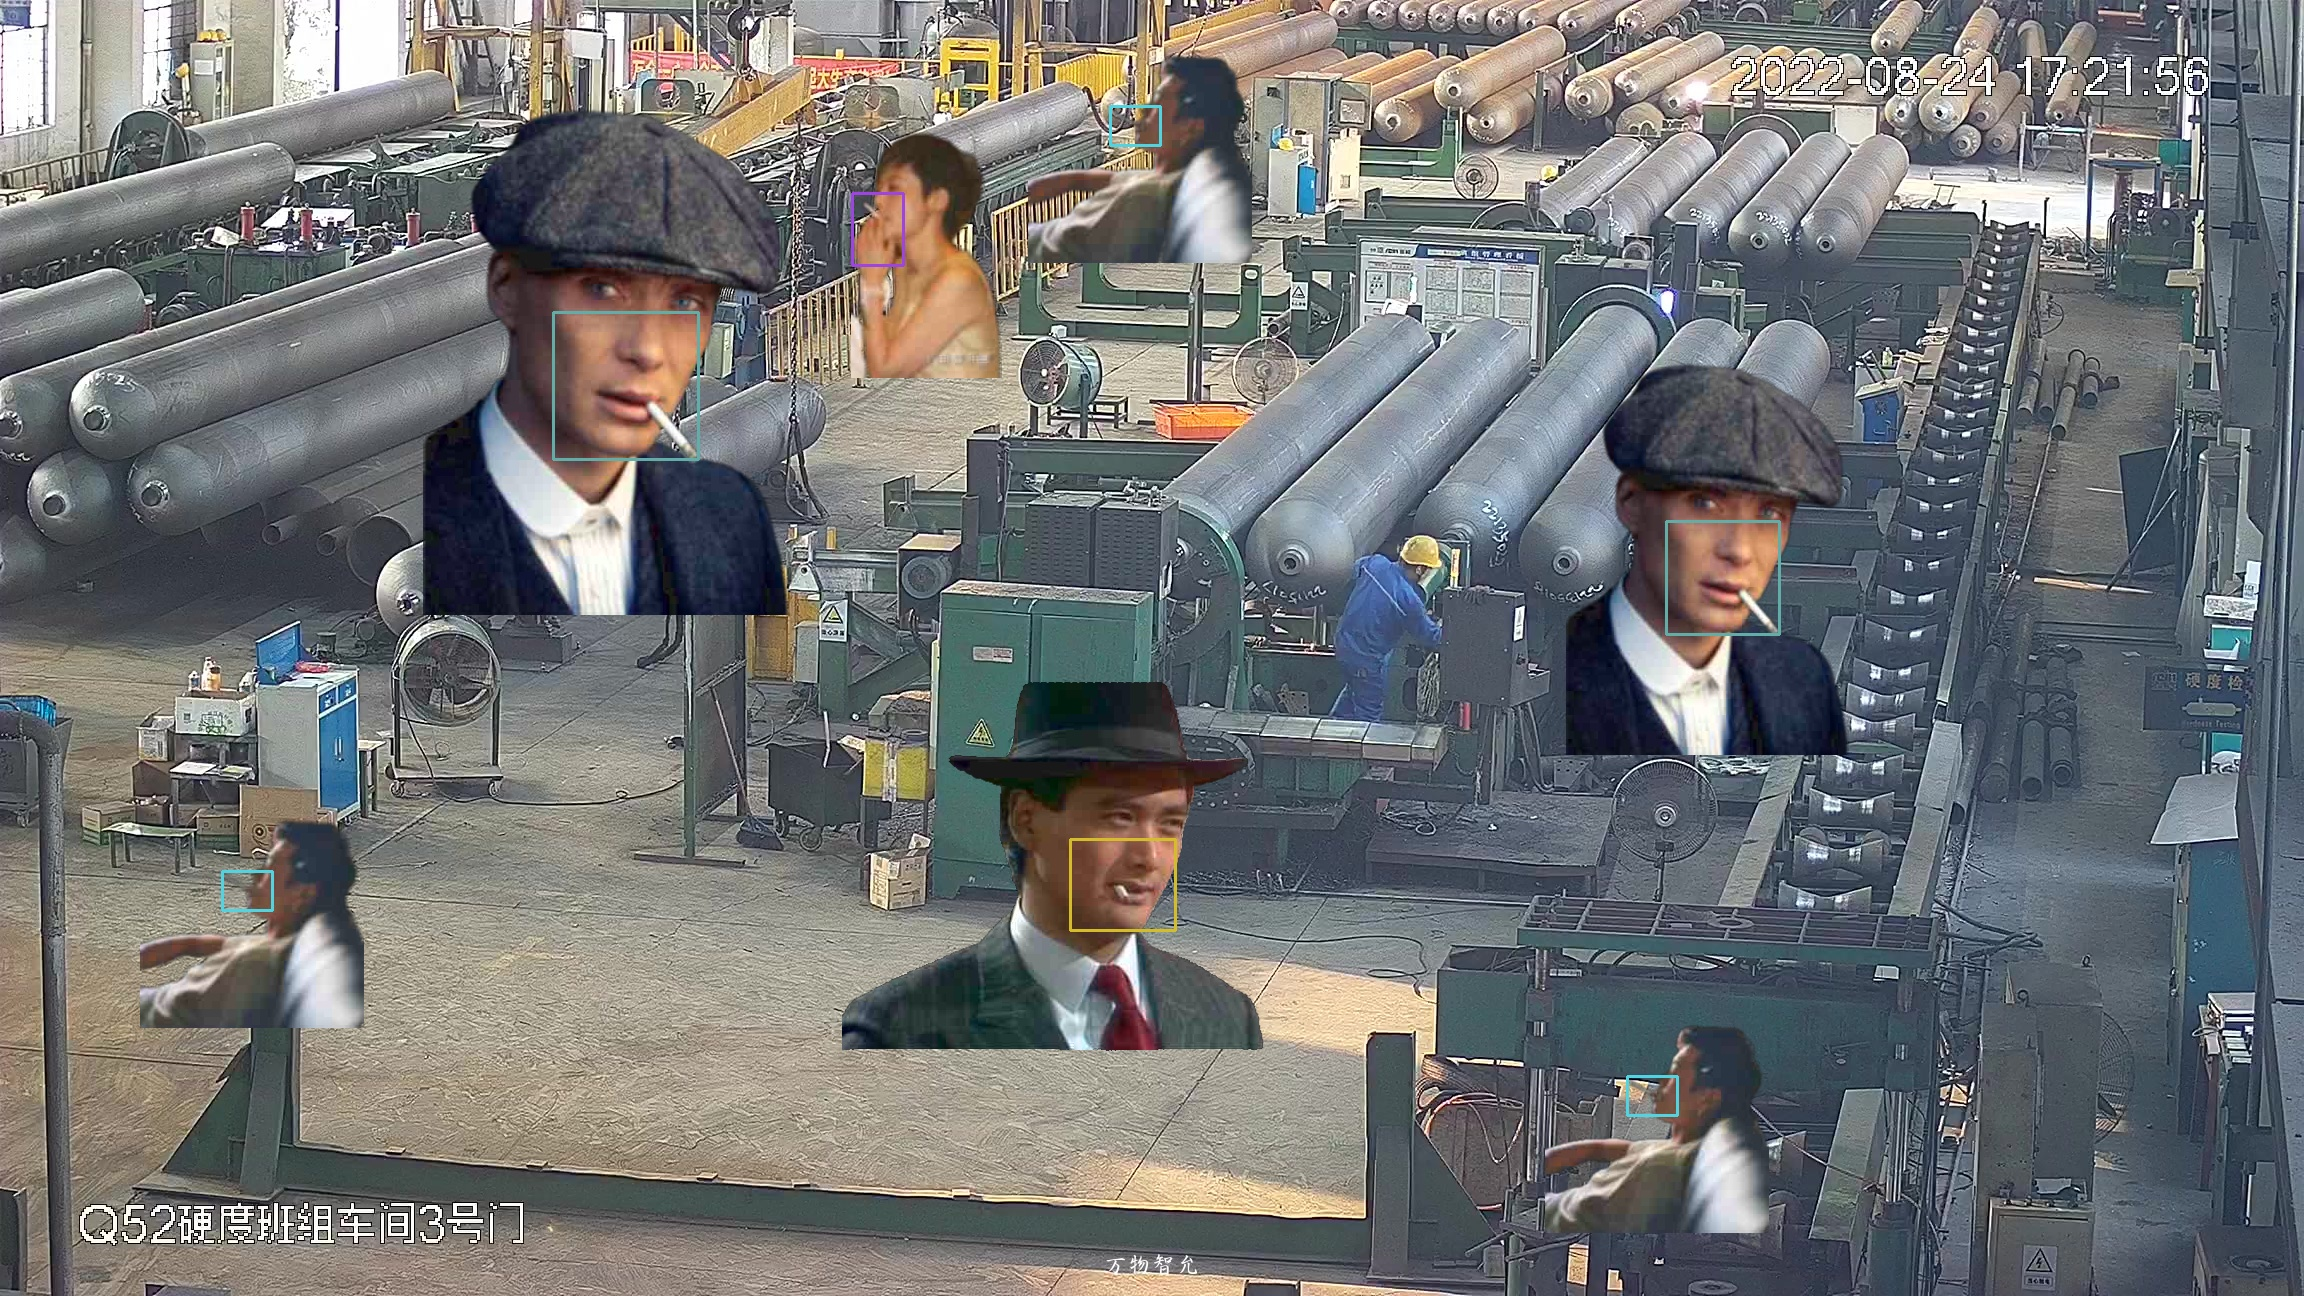smoke: (552, 312, 698, 459), (1666, 521, 1779, 635), (1070, 839, 1176, 930), (851, 193, 904, 264), (222, 870, 272, 910), (1109, 106, 1160, 146), (1627, 1076, 1677, 1116)
